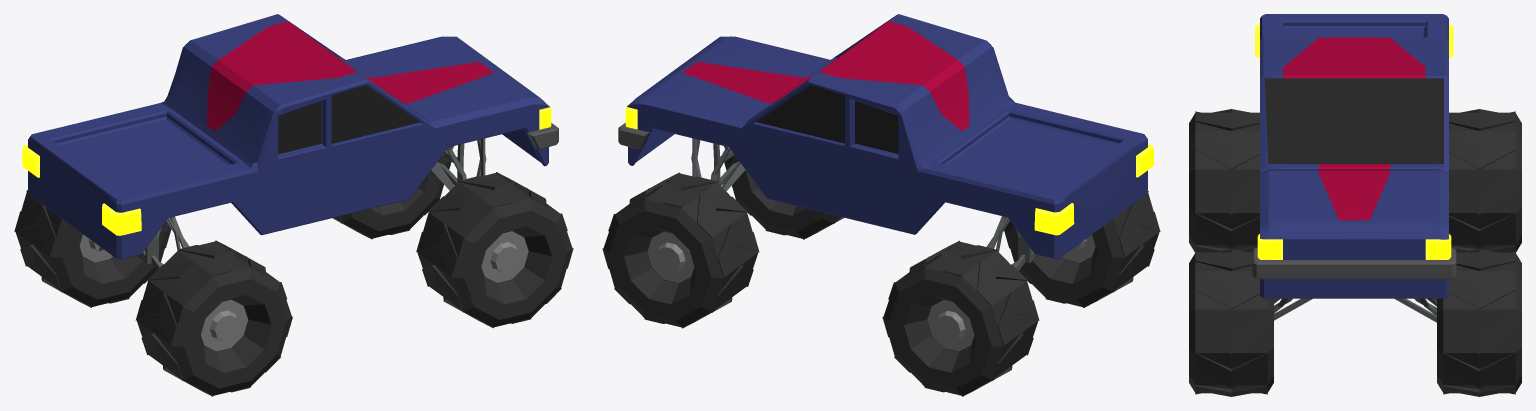
File: monster_truck.fbx
3 renders of one model, left to right at view 1: azimuth 30°, elevation 25°; view 2: azimuth 150°, elevation 25°; view 3: azimuth 270°, elevation 25°, orthographic. The views are drawn at different scales.
Visible parts, largest first — view 1: cabine, av_d, ar_d, ar_g, av_g, suspen_avant, suspen_arriere; view 2: cabine, av_g, ar_g, ar_d, av_d, suspen_avant, suspen_arriere; view 3: cabine, av_g, av_d, ar_g, ar_d, suspen_avant.
Boxes of the visible parts, bbox=[...] form: cabine: bbox=[22, 14, 558, 259]; av_d: bbox=[416, 172, 573, 328]; ar_d: bbox=[135, 240, 292, 396]; ar_g: bbox=[14, 190, 171, 307]; av_g: bbox=[332, 155, 451, 239]; suspen_avant: bbox=[431, 138, 486, 190]; suspen_arriere: bbox=[99, 216, 189, 269]; cabine: bbox=[618, 14, 1153, 258]; av_g: bbox=[602, 172, 759, 328]; ar_g: bbox=[882, 240, 1039, 396]; ar_d: bbox=[1004, 191, 1160, 307]; av_d: bbox=[724, 155, 843, 239]; suspen_avant: bbox=[691, 138, 745, 191]; suspen_arriere: bbox=[986, 216, 1076, 270]; cabine: bbox=[1252, 14, 1456, 298]; av_g: bbox=[1437, 249, 1521, 396]; av_d: bbox=[1189, 249, 1273, 396]; ar_g: bbox=[1449, 109, 1521, 252]; ar_d: bbox=[1189, 109, 1259, 252]; suspen_avant: bbox=[1274, 298, 1436, 322].
Bounding box in the file's own units: 15.06 × 8.13 × 9.6.
